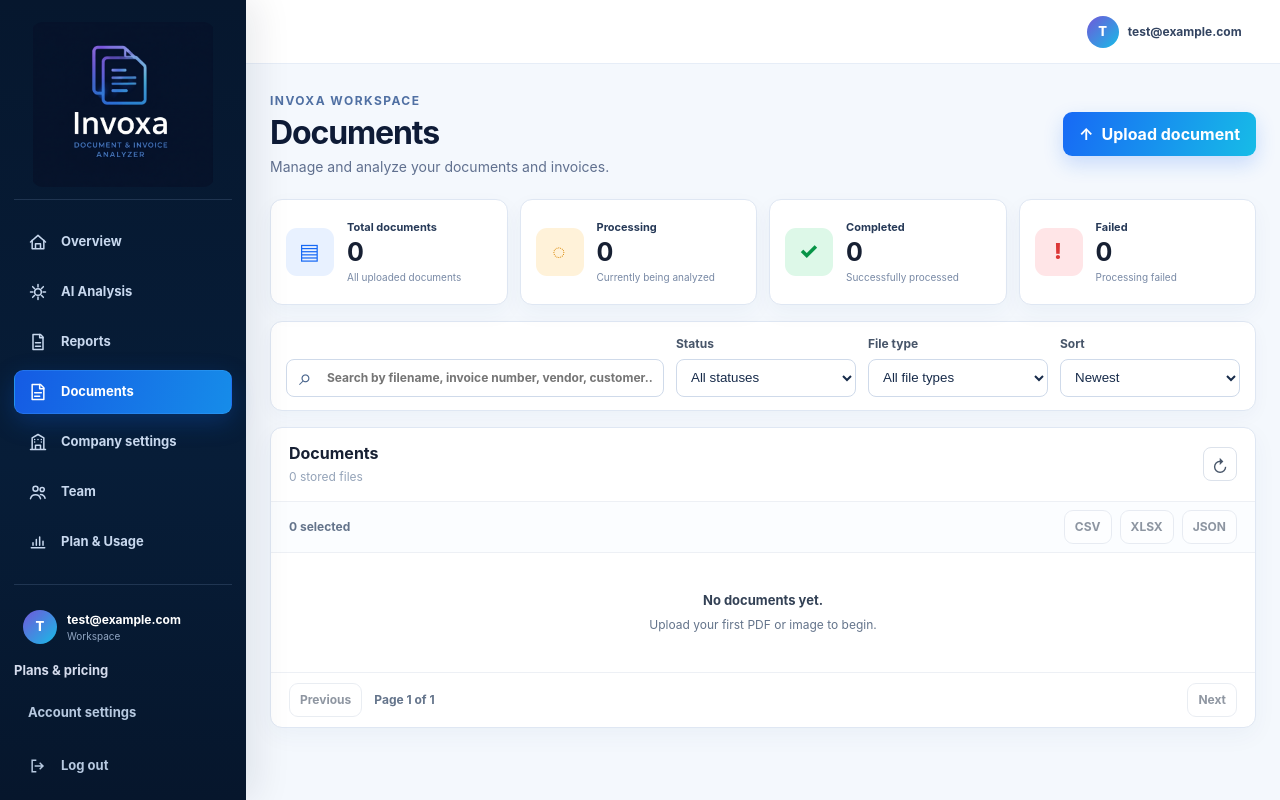
Test case: plan and usage › renders authoritative plan and usage values, including zero usage
(page scrolled)
Click the button "Plan & Usage". click: [123, 542]
box: [14,520,232,564]
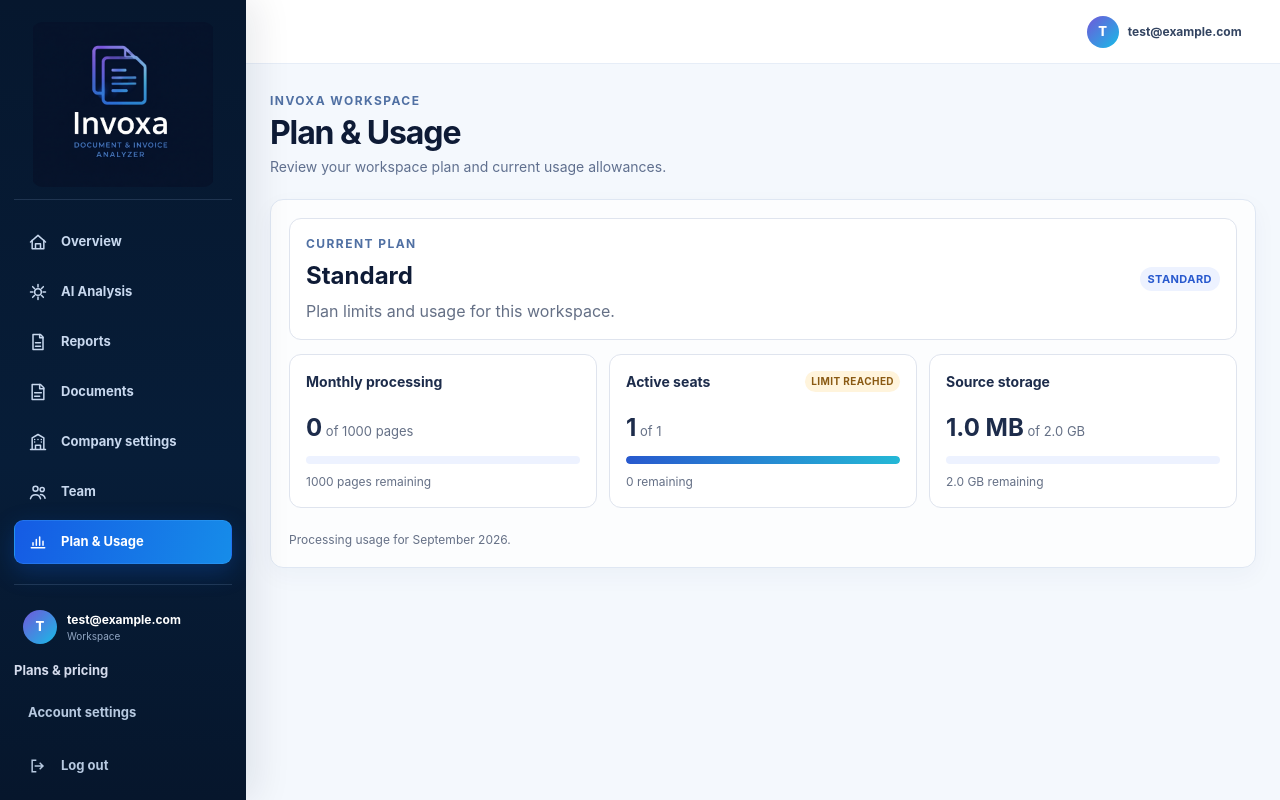
Check: the heading "Standard" is shown, box [306,261,413,290]
